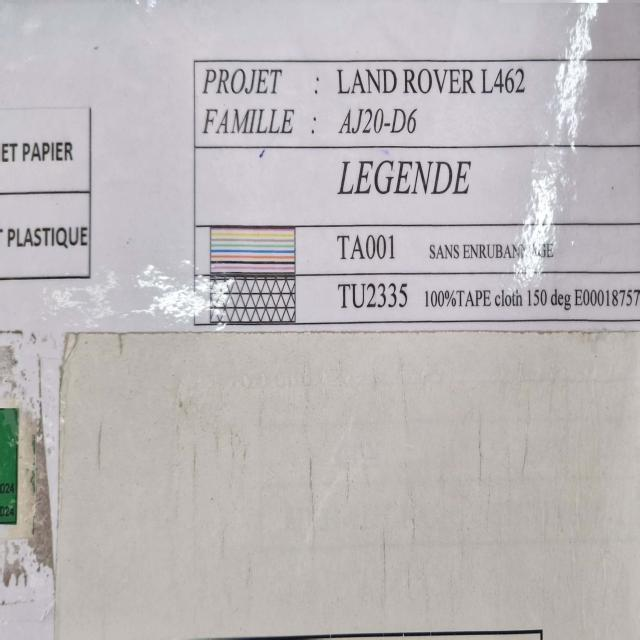Etiquette_Famille_AJ20_D-: (174, 26, 640, 360)
